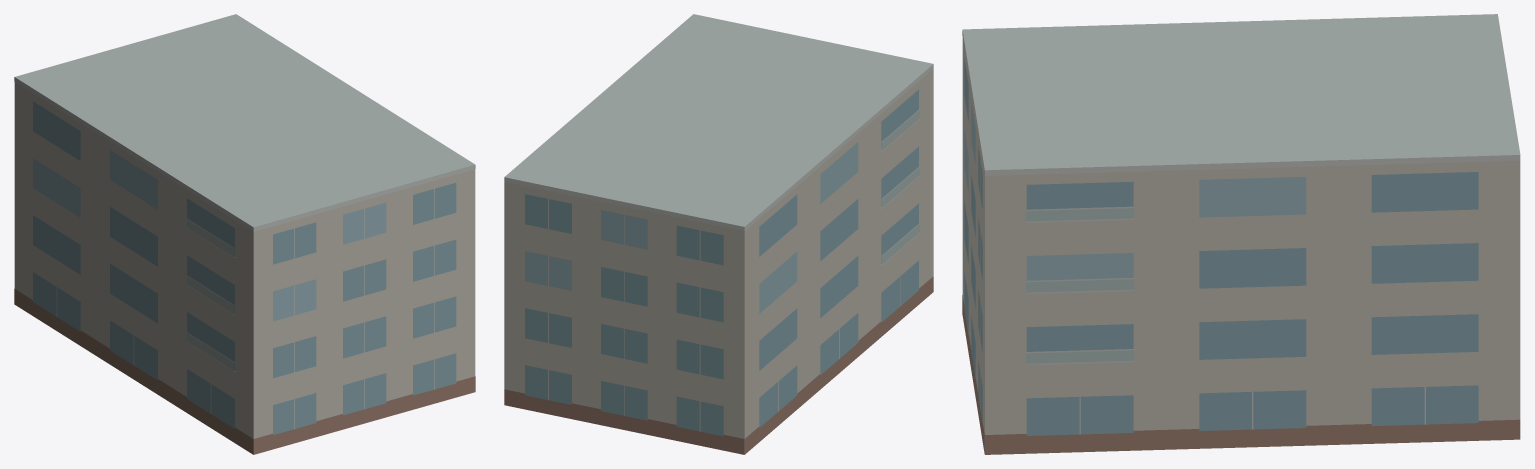
File: residential-51d40f72-b870-4993-91c9-970a0503f9ad.glb
3 renders of one model, left to right at view 1: azimuth 30°, elevation 25°; view 2: azimuth 150°, elevation 25°; view 3: azimuth 270°, elevation 25°, orthographic. The views are drawn at different scales.
Visible parts, largest first — view 1: residential-51d40f72-b870-4993-91c9-970a0503f9ad.tmp; view 2: residential-51d40f72-b870-4993-91c9-970a0503f9ad.tmp; view 3: residential-51d40f72-b870-4993-91c9-970a0503f9ad.tmp.
Boxes of the visible parts, x1,y1,x2,y2 form: residential-51d40f72-b870-4993-91c9-970a0503f9ad.tmp: (14, 14, 475, 454); residential-51d40f72-b870-4993-91c9-970a0503f9ad.tmp: (504, 14, 933, 454); residential-51d40f72-b870-4993-91c9-970a0503f9ad.tmp: (962, 14, 1520, 454).
Size of the model in its own units: 14.37 by 12.2 by 21.69.
